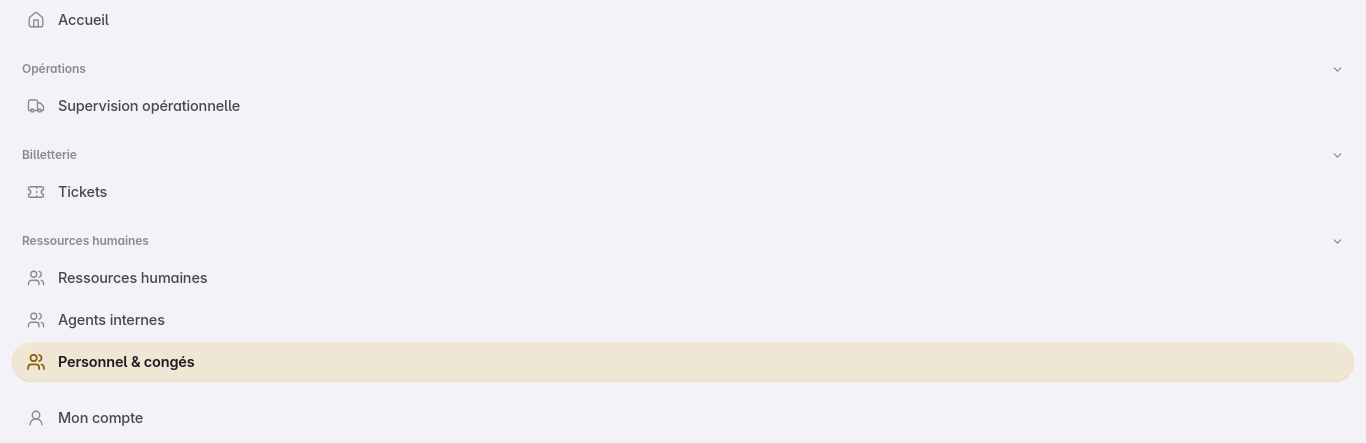
Test: SidebarNav entrée active › marque la section repliée d’un point sans surligner d’entrée
The width and height of the screenshot is (1366, 443).
Click the button "Ressources humaines" at (85, 240), box [12,228,1354,254]
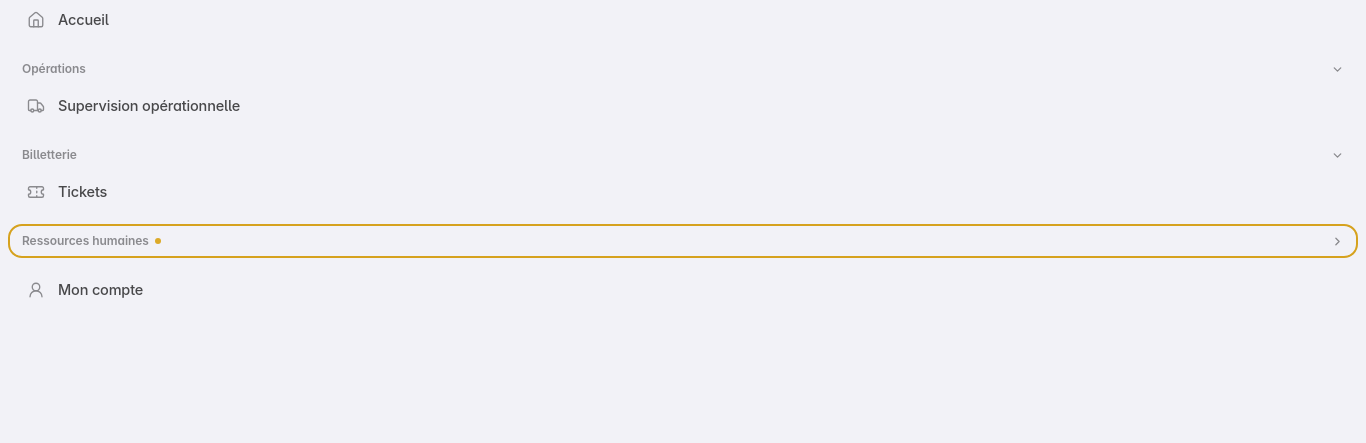
Expected: the link "Personnel & congés" is gone
